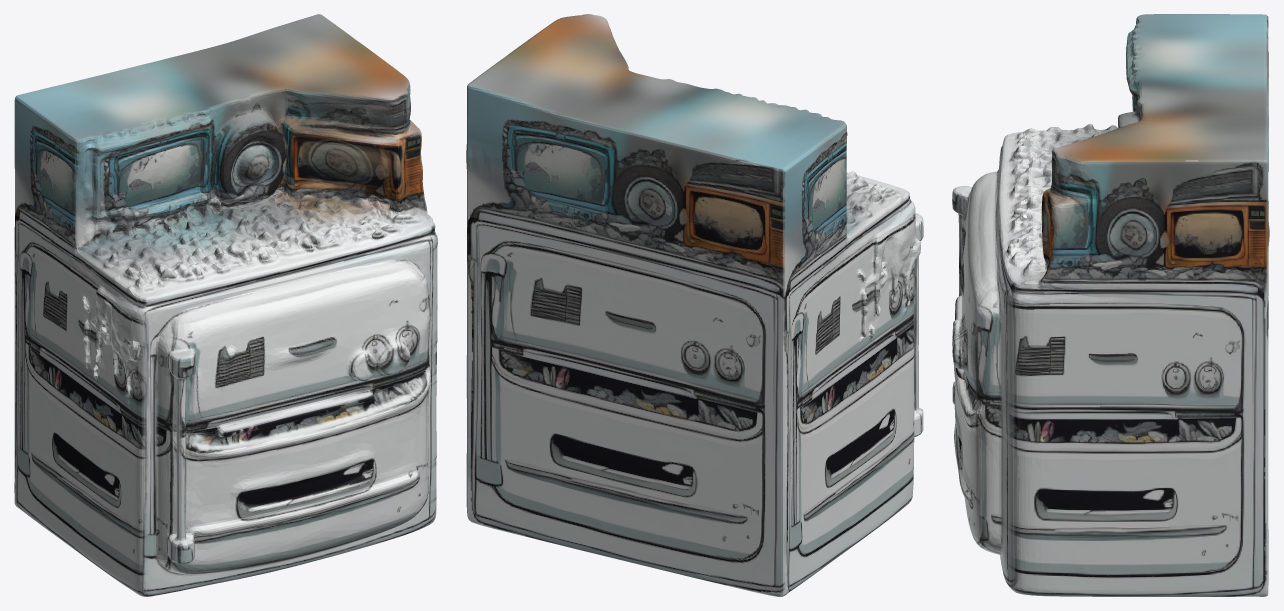
Rendered from hill_junk_heap.glb.
The picture shows the model from 3 angles, left to right: view 1: azimuth 30°, elevation 25°; view 2: azimuth 150°, elevation 25°; view 3: azimuth 270°, elevation 25°; orthographic projection. The views are drawn at different scales.
Visible parts, largest first — view 1: geometry_0; view 2: geometry_0; view 3: geometry_0.
Part boxes in pixels (bbox=[...]): geometry_0: bbox=[14, 14, 437, 596]; geometry_0: bbox=[466, 14, 923, 596]; geometry_0: bbox=[952, 14, 1269, 596].
Bounding box in the file's own units: 0.776 × 1 × 0.6526.
Materials: 1 (1 with a texture image).
